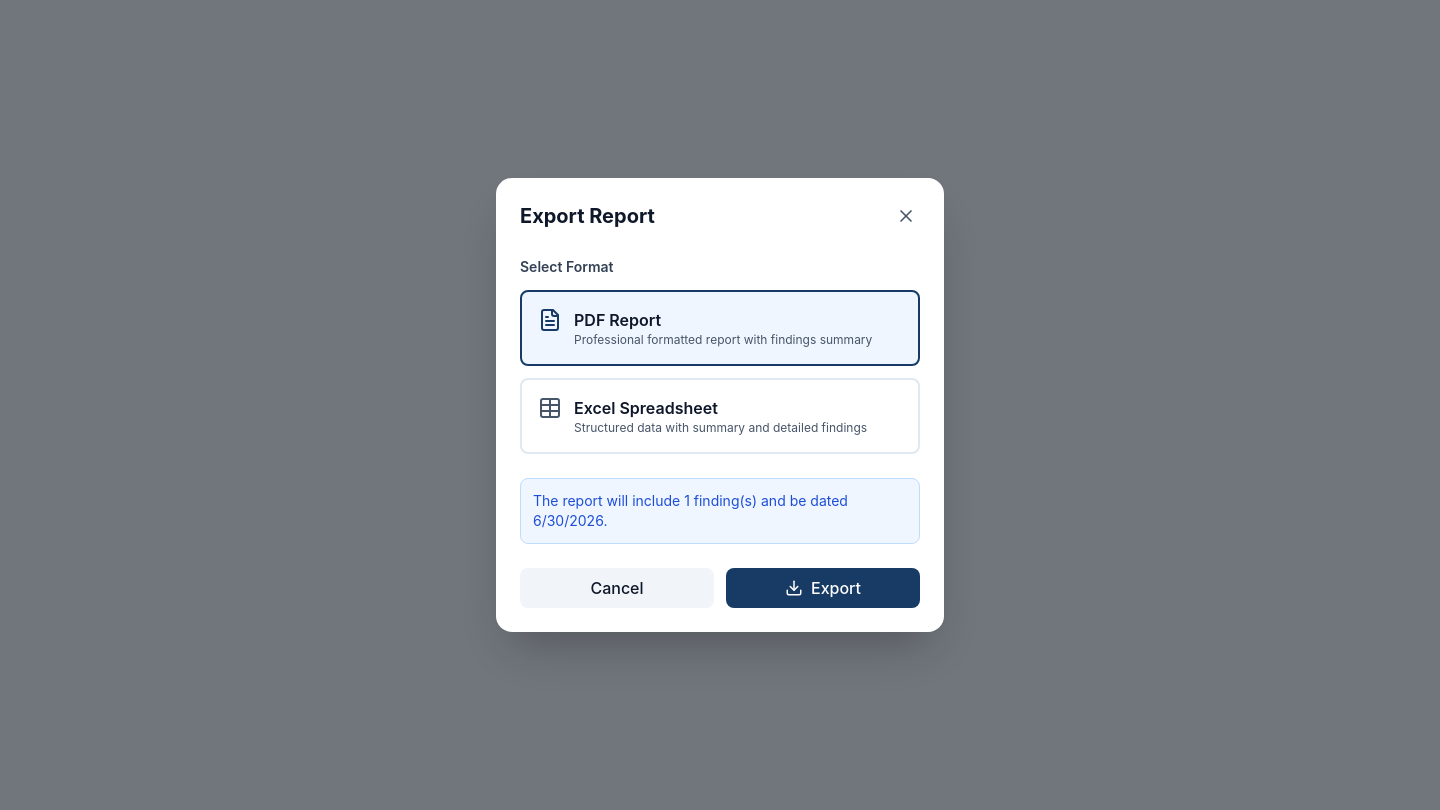
Test case: ReportExportModal › should display error message on export failure
The width and height of the screenshot is (1440, 810).
Step 1. Click the button "Export" → (823, 588), box 726,568 -> 920,608
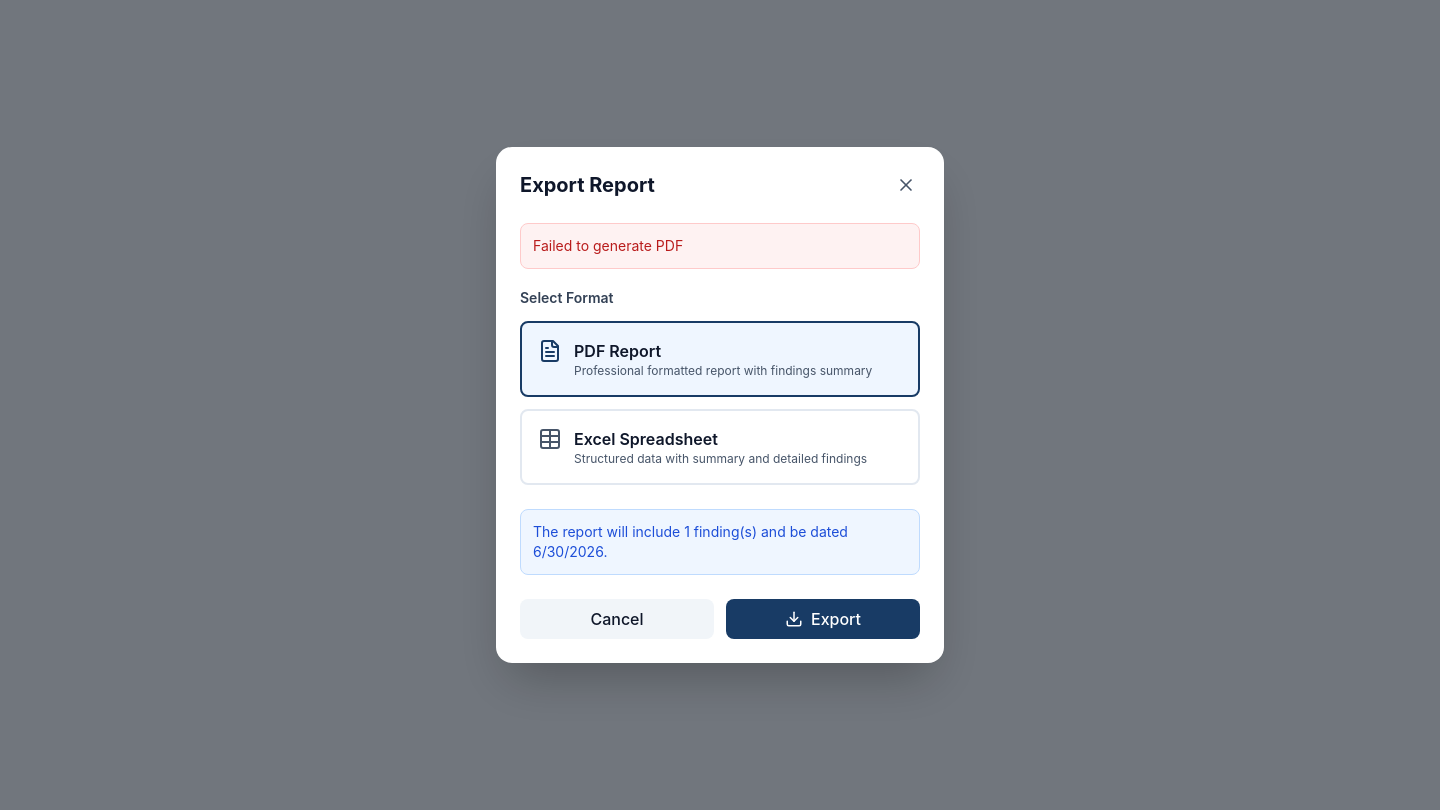
Check: the text "Failed to generate PDF" is shown, box 533,237 -> 683,254
